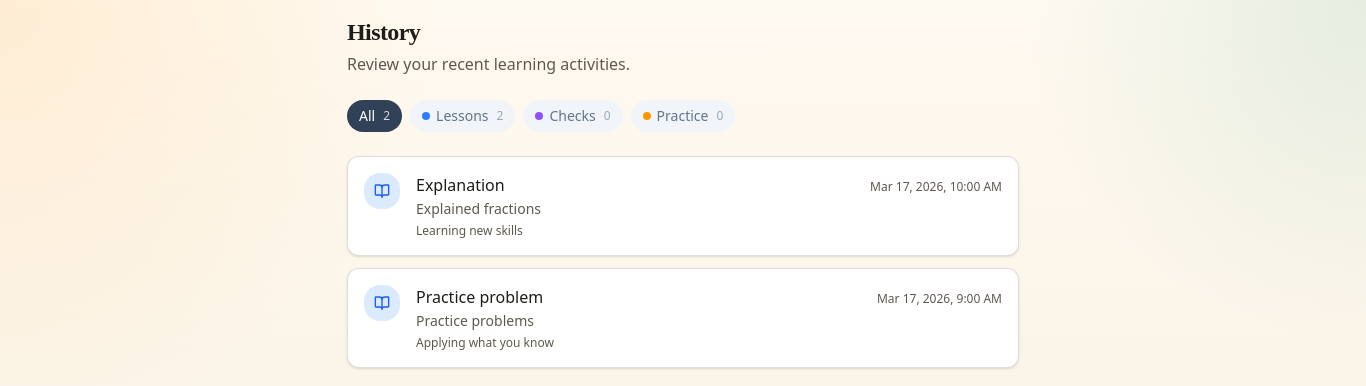
History › shows filtered empty state when filter has no matches
This screenshot has width=1366, height=386.
Click the tab "Practice 0".
click(683, 116)  # box [631,100,735,132]
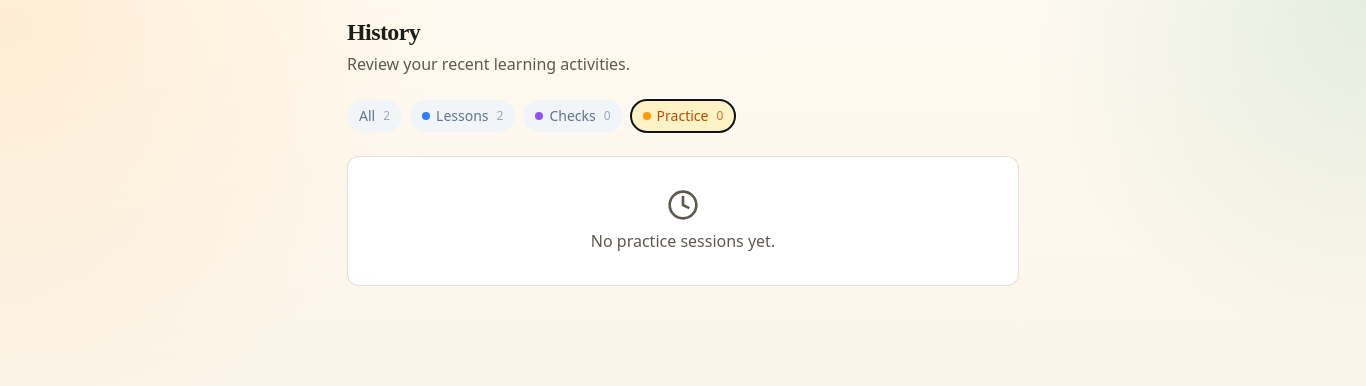
Expected: the text "No practice sessions yet." is shown, [591,230,775,252]
